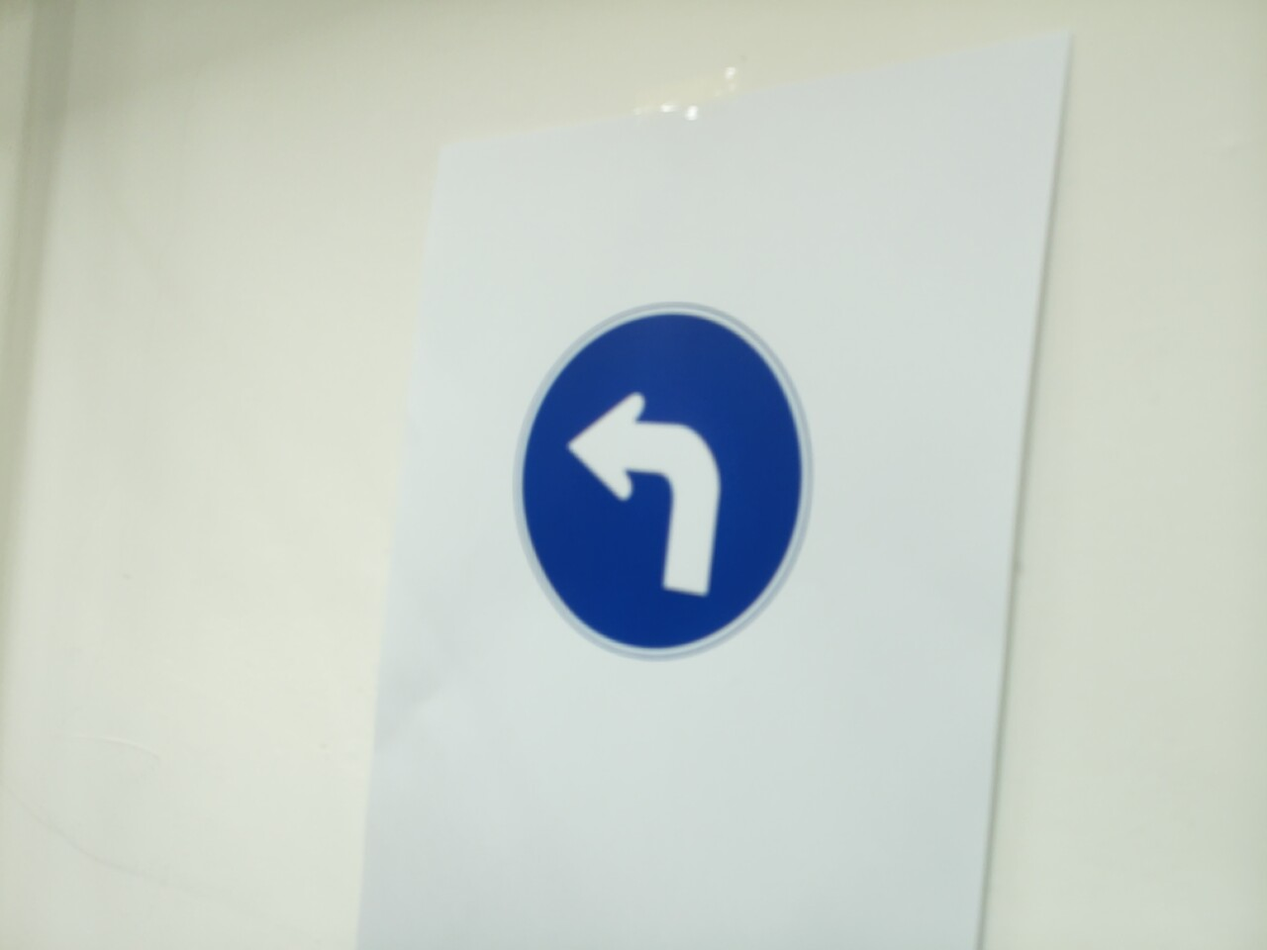left_turn: (513, 304, 811, 659)
